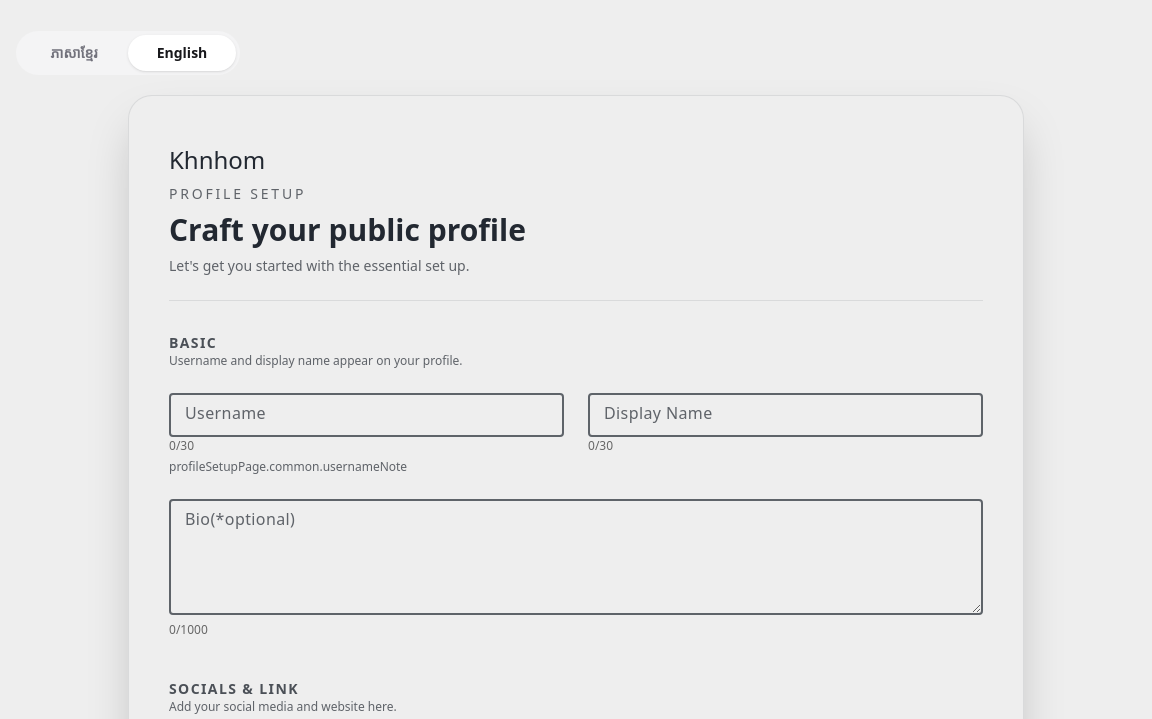
Test: ProfileForm › enables submit button when required fields are valid
This screenshot has width=1152, height=719.
Type "testuser" into the field labelled "Username" at (366, 415), box left=169, top=393, right=564, bottom=437
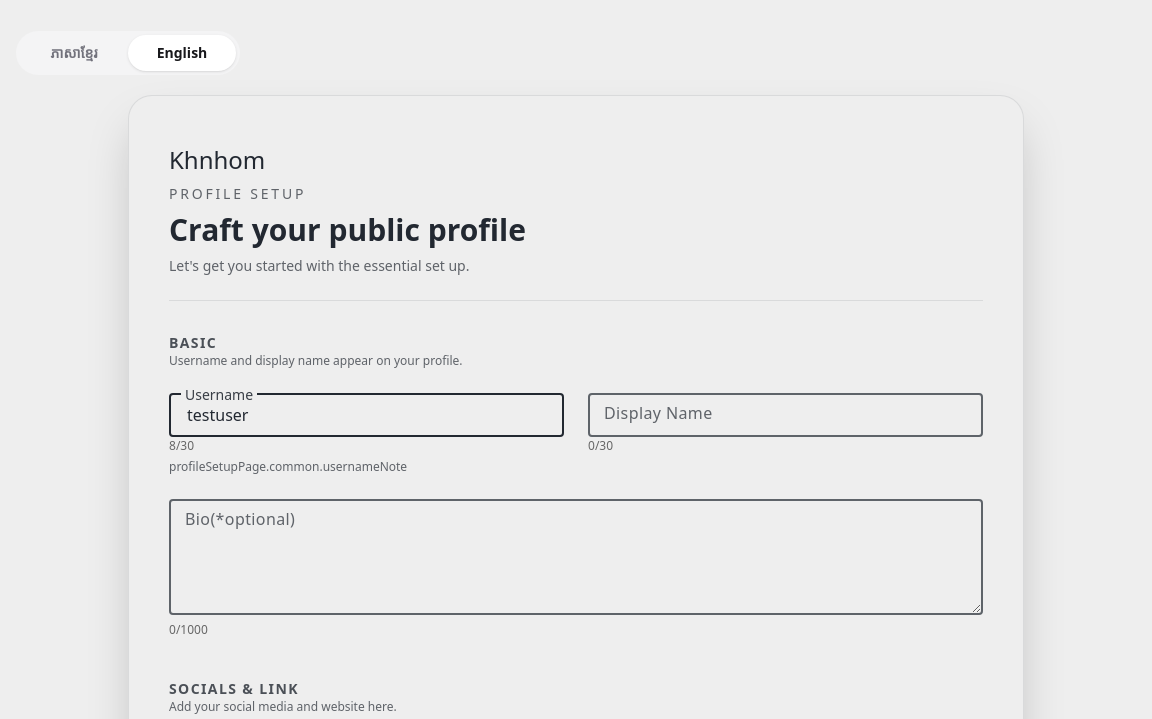
Type "Test User" into the field labelled "Display Name" at (786, 415), box left=588, top=393, right=983, bottom=437
(page scrolled)
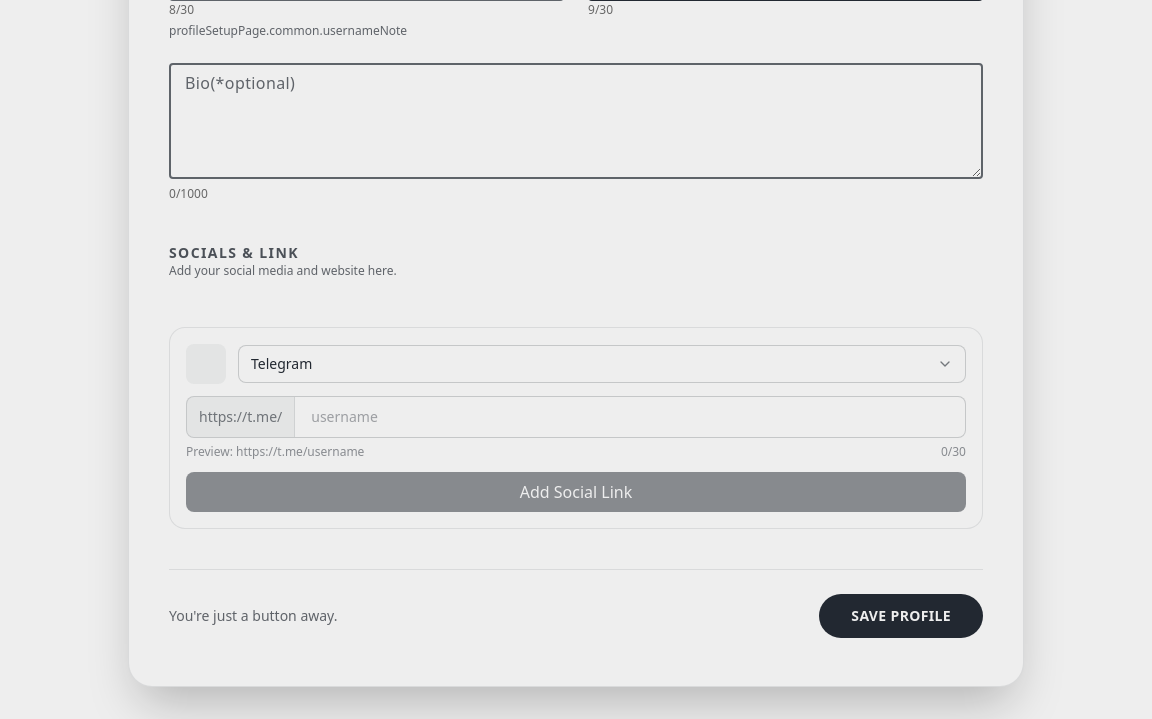
Expected: the button "Save Profile" is enabled, left=819, top=594, right=983, bottom=638
